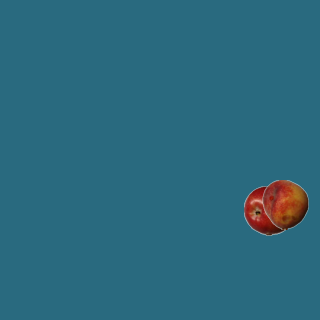Apple Braeburn: (243, 185, 293, 235)
Peach: (260, 179, 310, 229)
